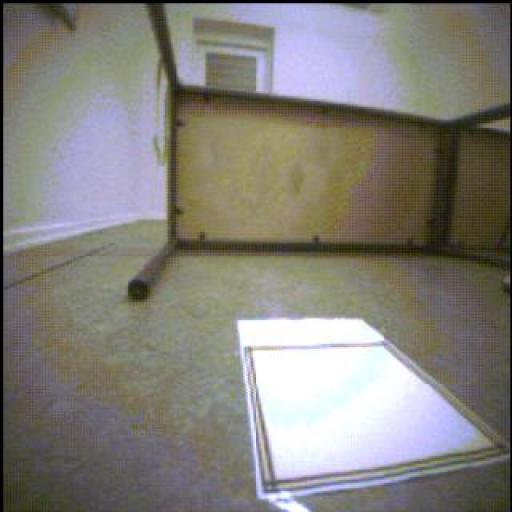Pad: (239, 320, 510, 512)
